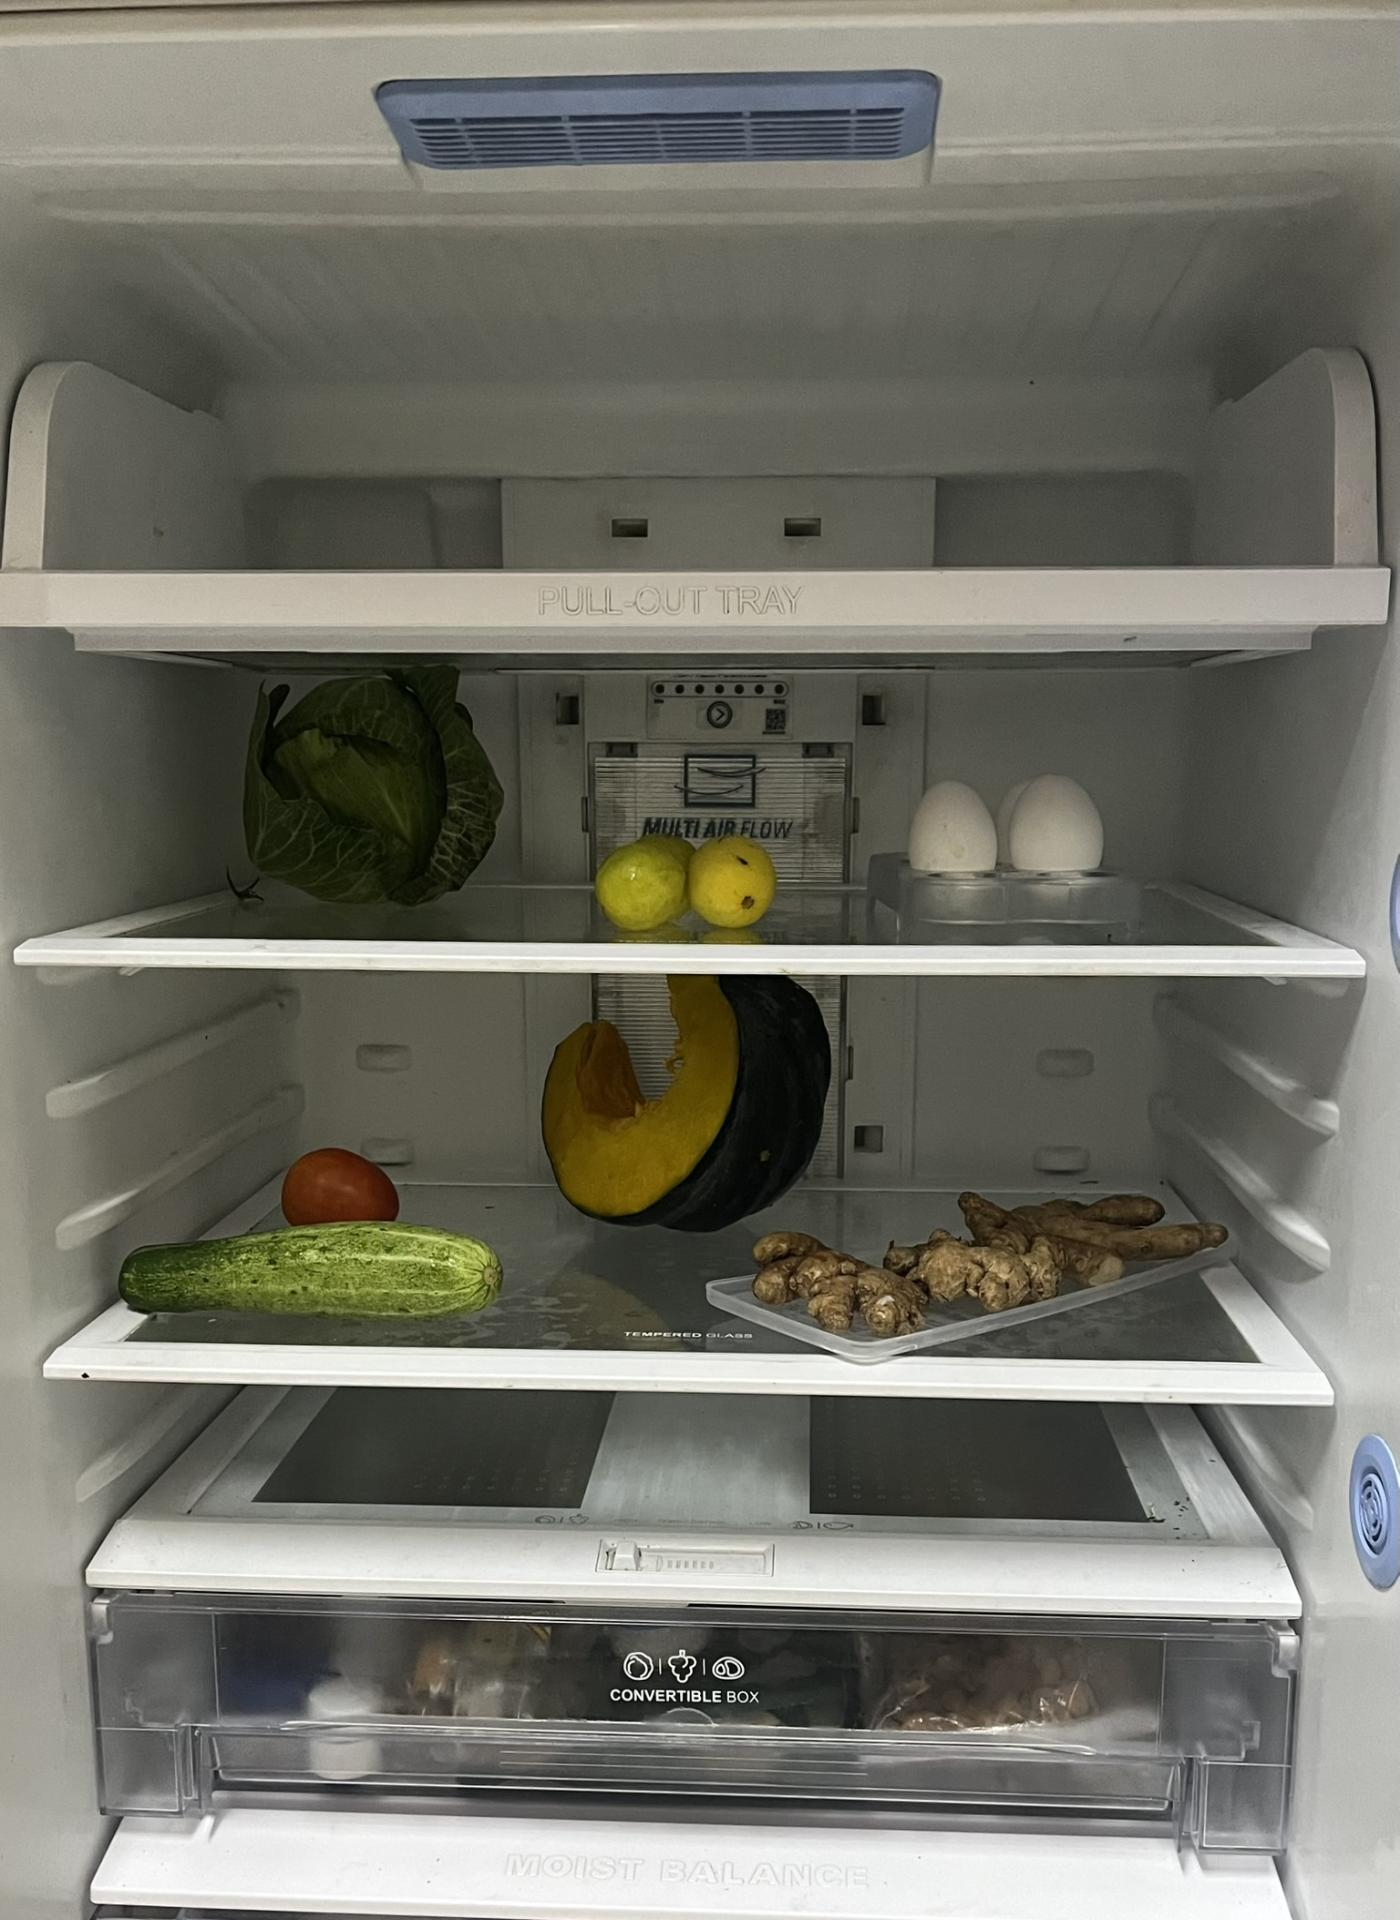cabbage: (239, 666, 502, 899)
cucumber: (101, 1230, 505, 1328)
egg: (908, 766, 1100, 899)
ginger: (745, 1173, 1223, 1346)
lemon: (598, 841, 772, 921)
pumpkin: (544, 967, 827, 1234)
tomato: (279, 1145, 398, 1227)
